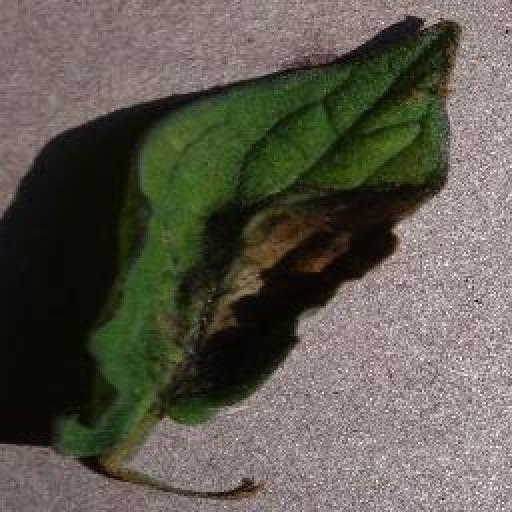disease_tomato: (52, 16, 464, 459)
